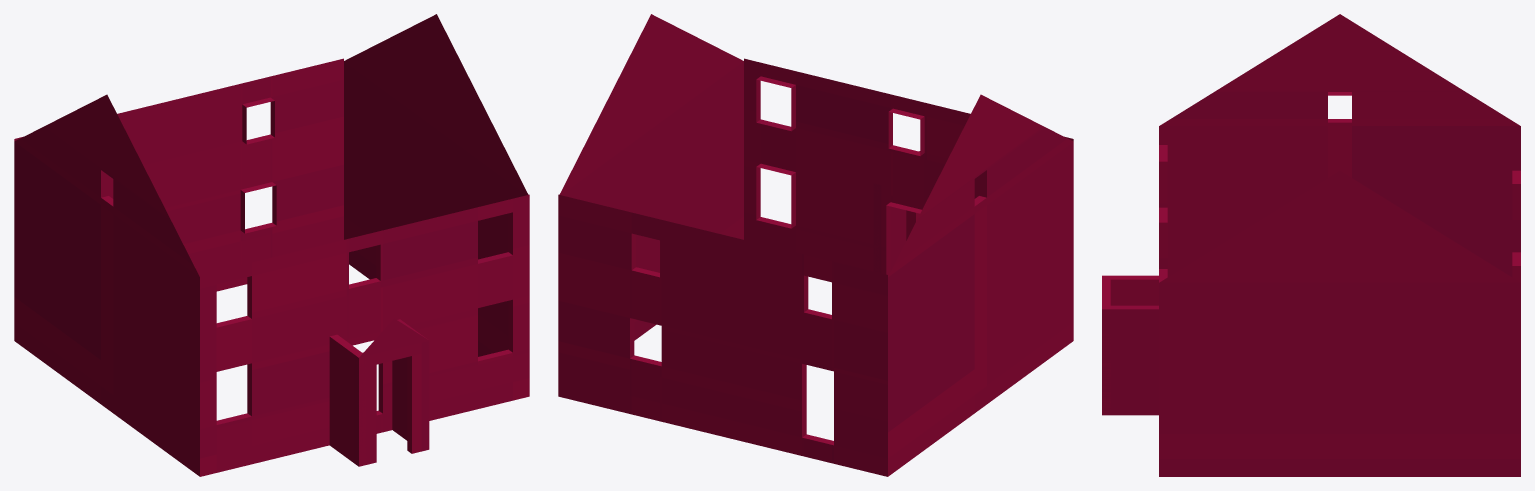
The model's file is SM_Bld_012_Masonry.glb.
The picture shows the model from 3 angles, left to right: view 1: azimuth 30°, elevation 25°; view 2: azimuth 150°, elevation 25°; view 3: azimuth 270°, elevation 25°; orthographic projection. The views are drawn at different scales.
Visible parts, largest first — view 1: SM_Bld_012_Masonry; view 2: SM_Bld_012_Masonry; view 3: SM_Bld_012_Masonry.
Part boxes in pixels (box(x1,y1,x2,y2)): SM_Bld_012_Masonry: box(14, 14, 529, 476); SM_Bld_012_Masonry: box(558, 14, 1073, 476); SM_Bld_012_Masonry: box(1102, 14, 1520, 476).
Size of the model in its own units: 9.34 by 8.52 by 10.56.
